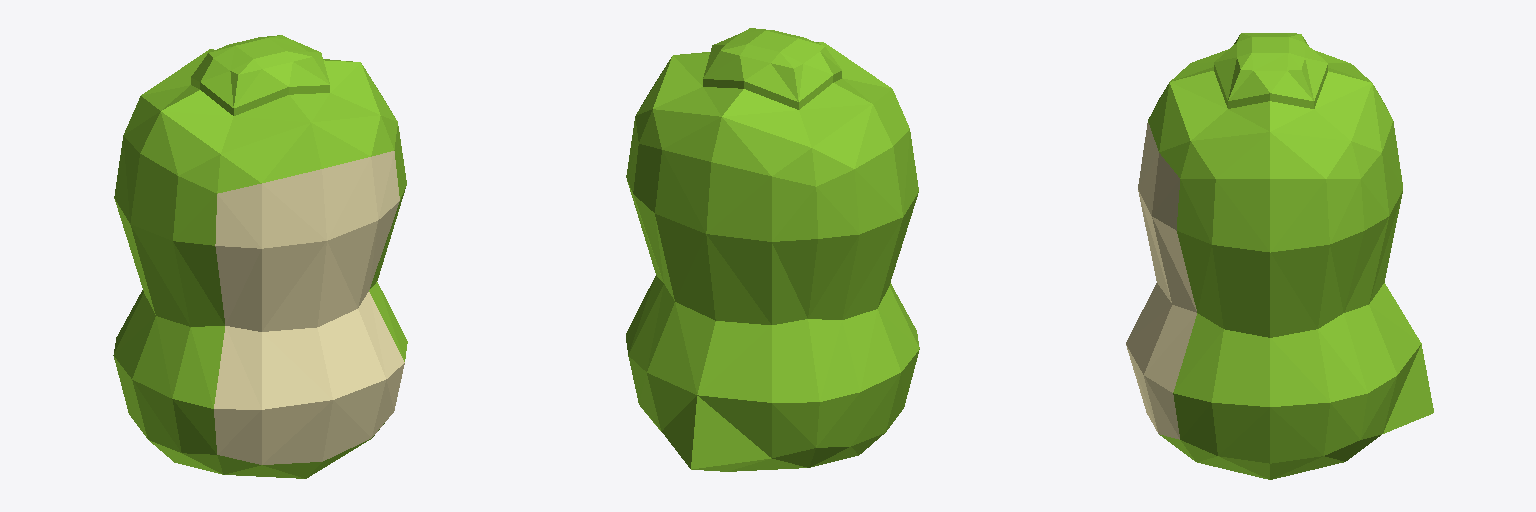
3 renders of one model, left to right at view 1: azimuth 30°, elevation 25°; view 2: azimuth 150°, elevation 25°; view 3: azimuth 270°, elevation 25°, orthographic.
Visible parts, largest first — view 1: body; view 2: body; view 3: body.
Part boxes in pixels (x1,y1,x2,y2): body: (113, 35, 407, 478); body: (626, 28, 919, 471); body: (1126, 33, 1433, 479).
Size of the model in its own units: 0.6574 by 1.02 by 0.6736.
Materials: 1 (1 with a texture image).